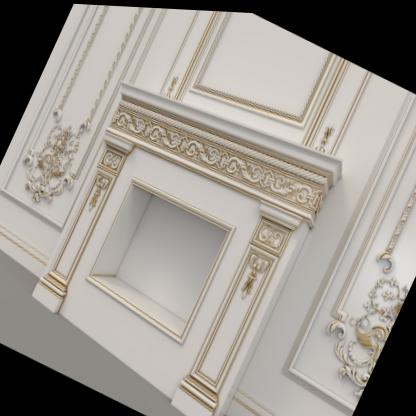Futec frame: (24, 65, 335, 412), (277, 80, 416, 412), (0, 0, 181, 237)
